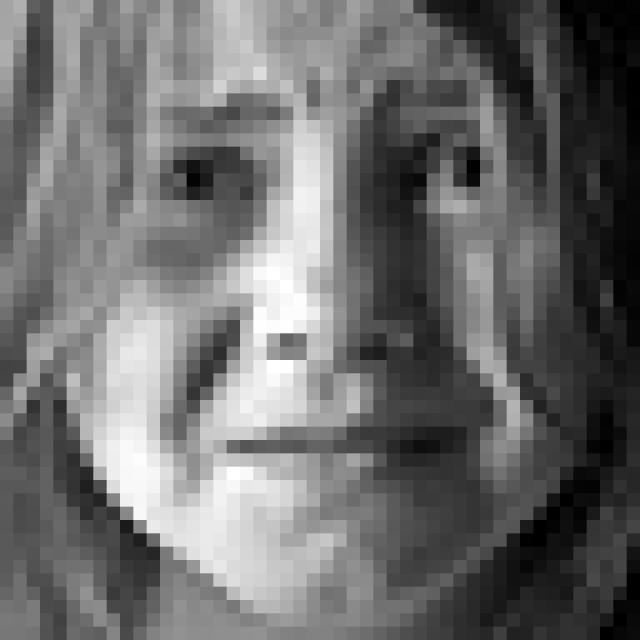sad: (127, 51, 542, 530)
